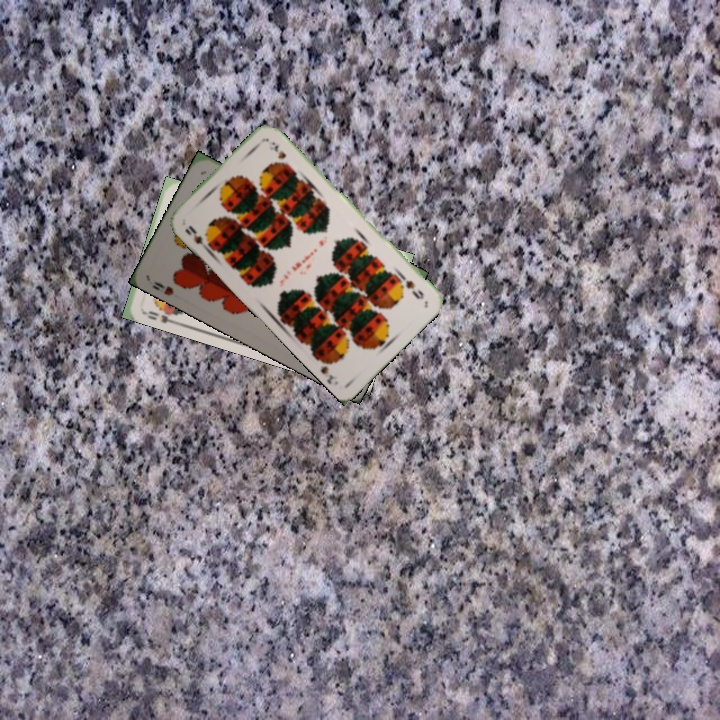H9: (148, 277, 176, 298)
S9: (181, 221, 213, 254), (395, 271, 426, 302)
SO: (138, 304, 180, 327)
